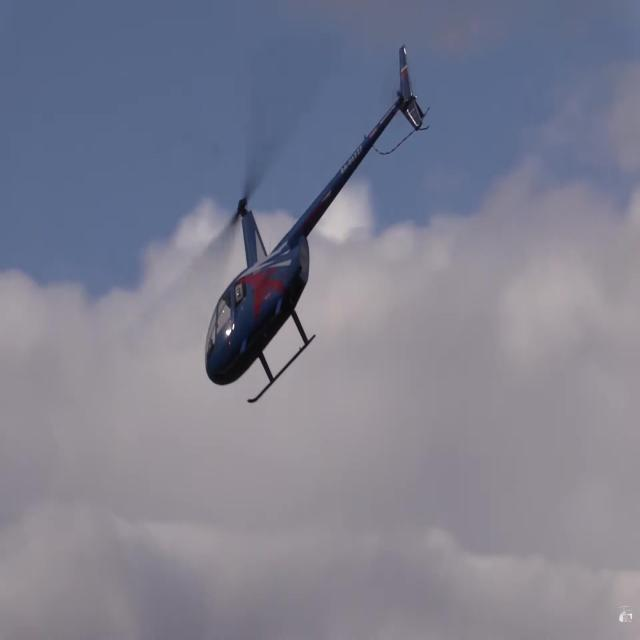CIV_HELO: (201, 42, 426, 405)
